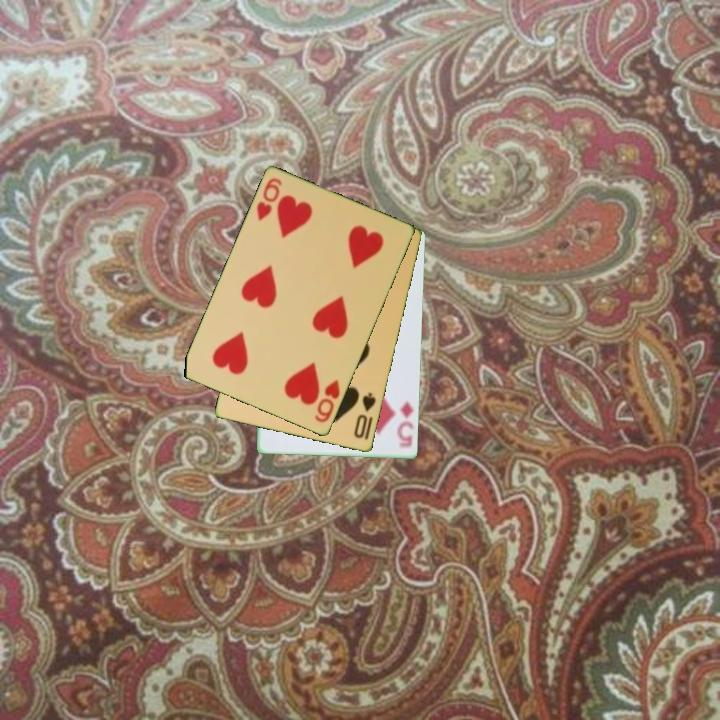10s: (351, 389, 379, 442)
5d: (394, 398, 417, 452)
6h: (311, 376, 343, 426), (253, 175, 285, 224)
